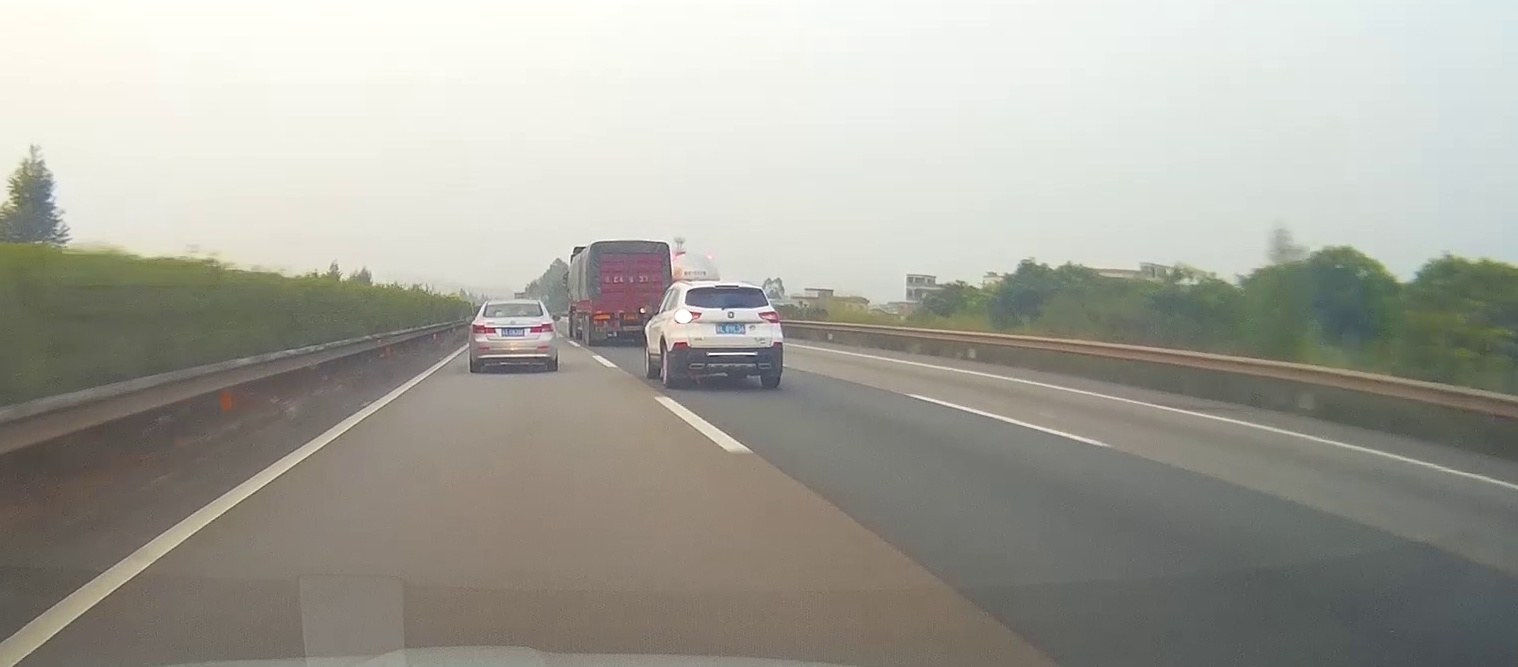L_light: (674, 309, 702, 323), (472, 324, 496, 333)
R_light: (758, 310, 780, 324), (529, 322, 555, 333)
T_light: (715, 285, 739, 289), (507, 303, 520, 306)
day-left: (671, 281, 783, 388)
day-no: (469, 299, 559, 372)
